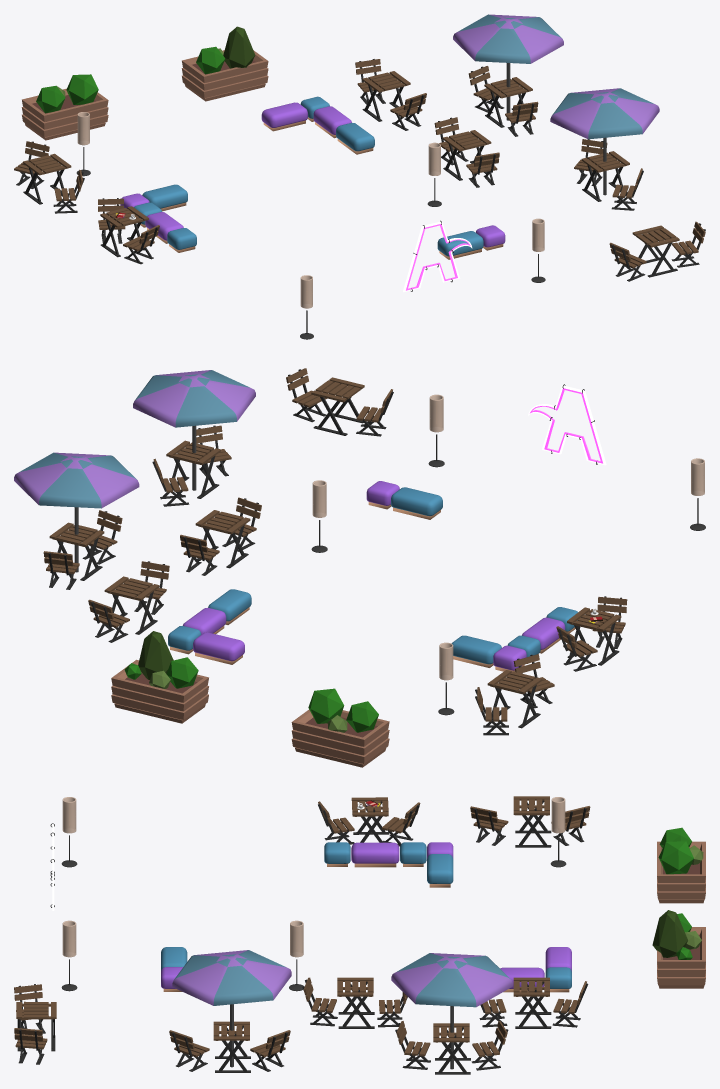
File: d2x3Shape Sampleroom - Deko.glb
The picture shows the model from 3 angles, top to bottom: view 1: azimuth 30°, elevation 25°; view 2: azimuth 150°, elevation 25°; view 3: azimuth 270°, elevation 25°; orthographic projection. The views are drawn at different scales.
Parts seen in each view (by area): view 1: Deko_2x3 arcade; view 2: Deko_2x3 arcade; view 3: Deko_2x3 arcade.
Part boxes in pixels (x1,y1,x2,y2): Deko_2x3 arcade: (14,14,705,339); Deko_2x3 arcade: (14,368,705,767); Deko_2x3 arcade: (14,796,705,1074).
Bounding box in the file's own units: 15.05 × 2.94 × 16.96.
Materials: 9 (3 with a texture image).
